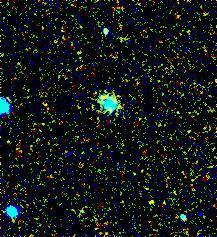star: (132, 185, 162, 215)
